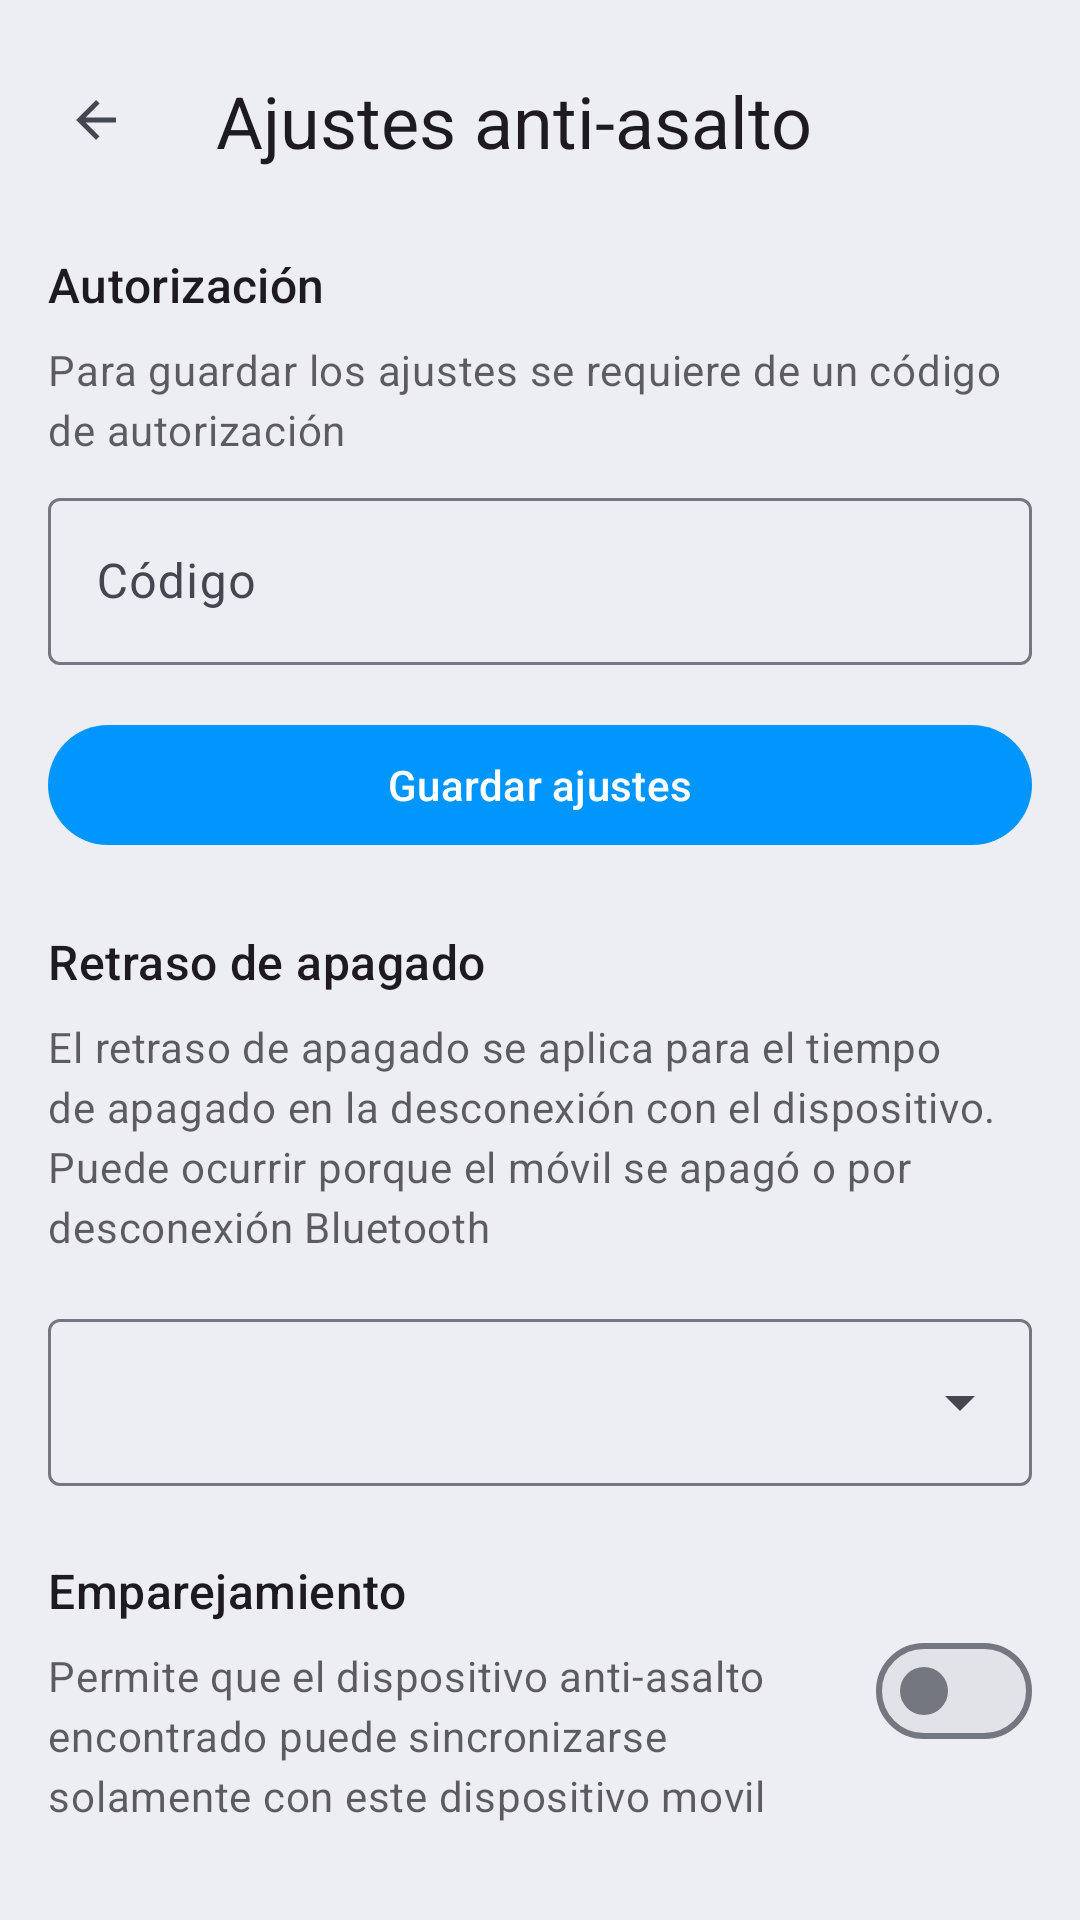

Screen size 1080×1920. Icon name, then its center in pixels as point (x, y):
Salir: point (96, 120)
